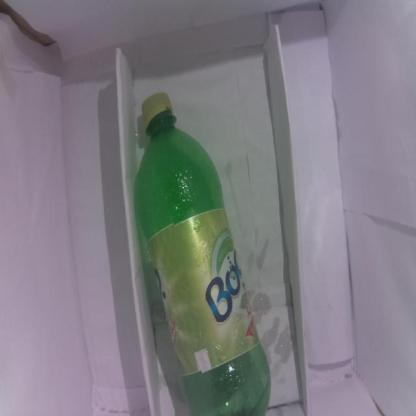Plastic Bottle: (135, 93, 271, 416)
